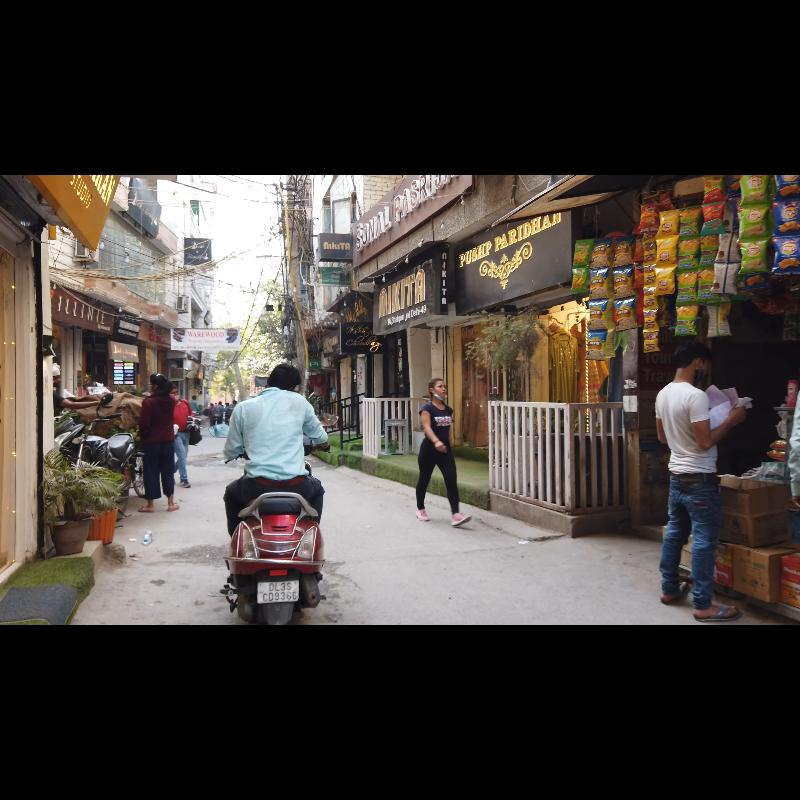Jeans: (417, 440, 460, 518)
Pant: (227, 473, 326, 535), (145, 438, 176, 497)
Shirt: (226, 394, 325, 477)
Tshirt: (654, 383, 718, 474)
